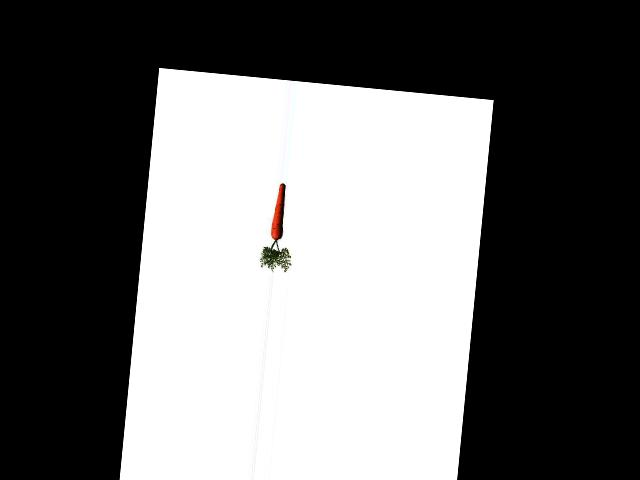carrot: (267, 180, 291, 245)
